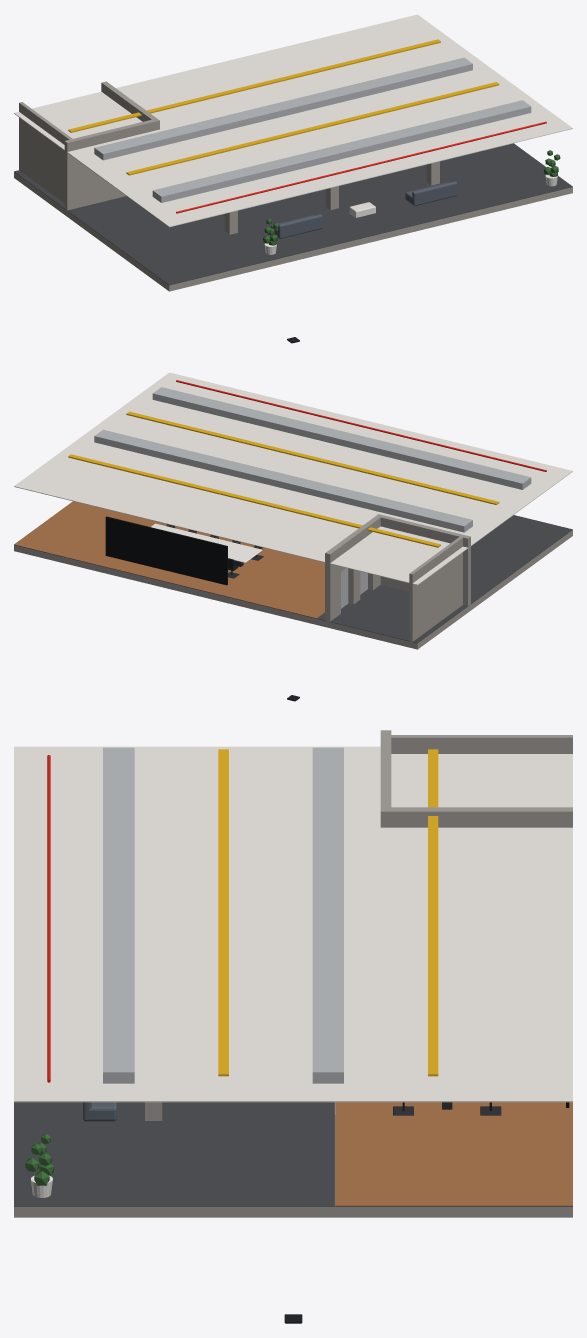
The picture shows the model from 3 angles, top to bottom: view 1: azimuth 30°, elevation 25°; view 2: azimuth 150°, elevation 25°; view 3: azimuth 270°, elevation 25°; orthographic projection. The views are drawn at different scales.
Visible parts, largest first — view 1: LV_L2; view 2: LV_L2; view 3: LV_L2.
Boxes of the visible parts, x1,y1,x2,y2 form: LV_L2: [14, 14, 572, 343]; LV_L2: [14, 372, 572, 701]; LV_L2: [14, 730, 572, 1323].
Size of the model in its own units: 24 by 13.03 by 16.
